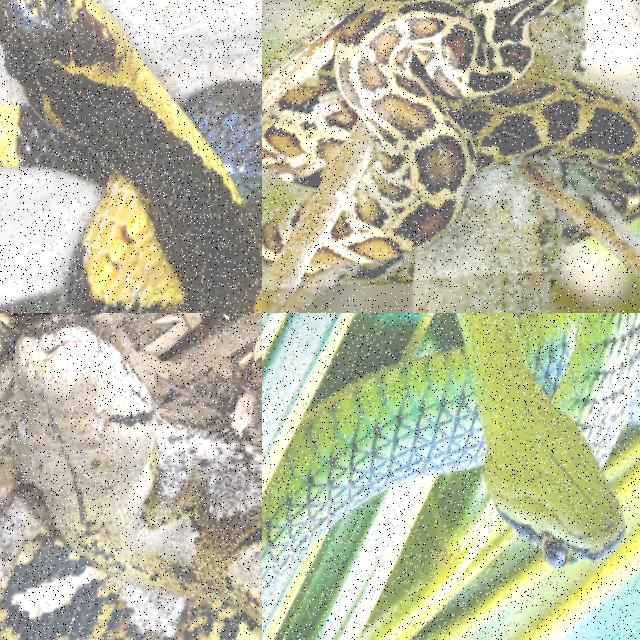Bungarus fasciatus: (0, 0, 261, 312)
Chrysopelea ornata: (262, 313, 639, 598)
Malayopython reticulatus: (0, 314, 261, 639)
Python bivittatus: (262, 0, 639, 281)
